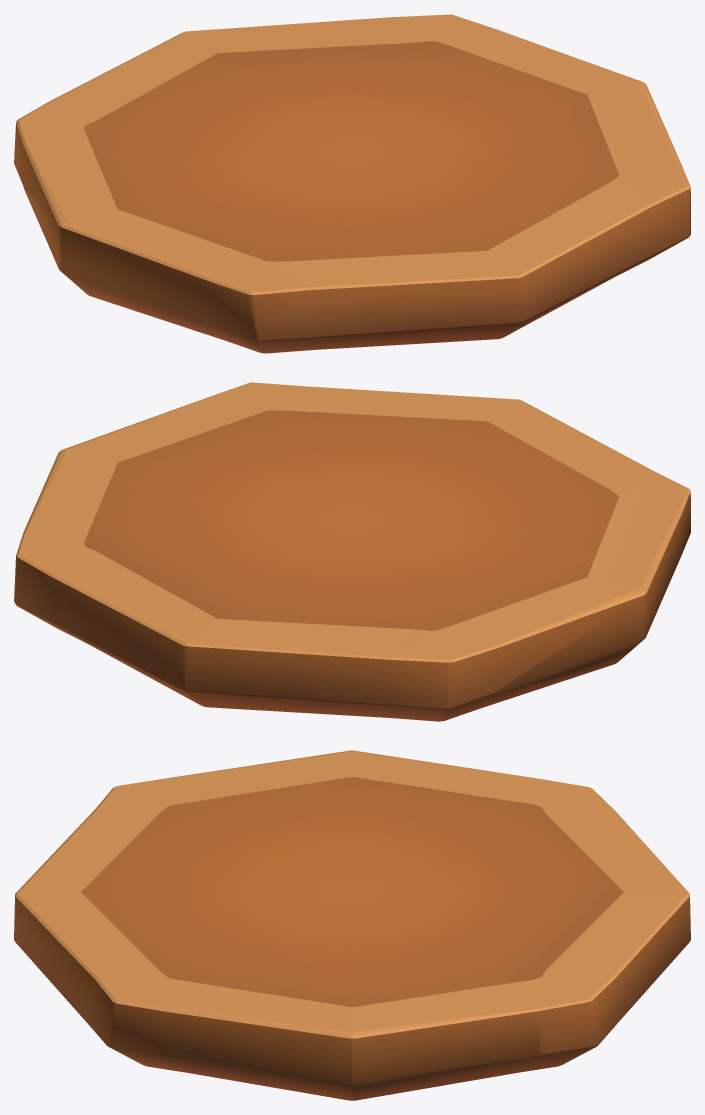
Rendered from MovingAcornPlatform.gltf.
The picture shows the model from 3 angles, top to bottom: view 1: azimuth 30°, elevation 25°; view 2: azimuth 150°, elevation 25°; view 3: azimuth 270°, elevation 25°; orthographic projection.
Visible parts, largest first — view 1: MovingAcornPlatform; view 2: MovingAcornPlatform; view 3: MovingAcornPlatform.
Boxes of the visible parts, left/top/right/bottom form: MovingAcornPlatform: left=14, top=14, right=690, bottom=353; MovingAcornPlatform: left=14, top=382, right=690, bottom=721; MovingAcornPlatform: left=14, top=750, right=690, bottom=1100.
Size of the model in its own units: 1.64 by 0.2157 by 1.63.
Materials: 1 (1 with a texture image).
